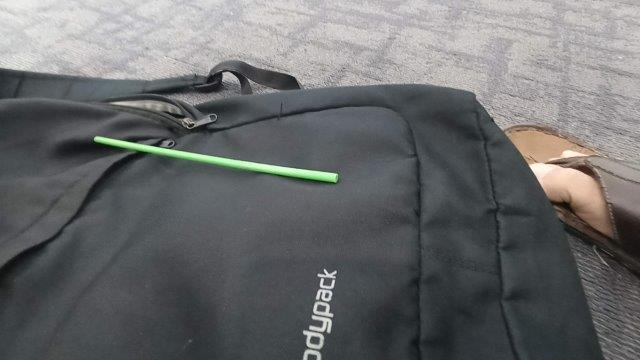sedotan: (95, 136, 338, 182)
